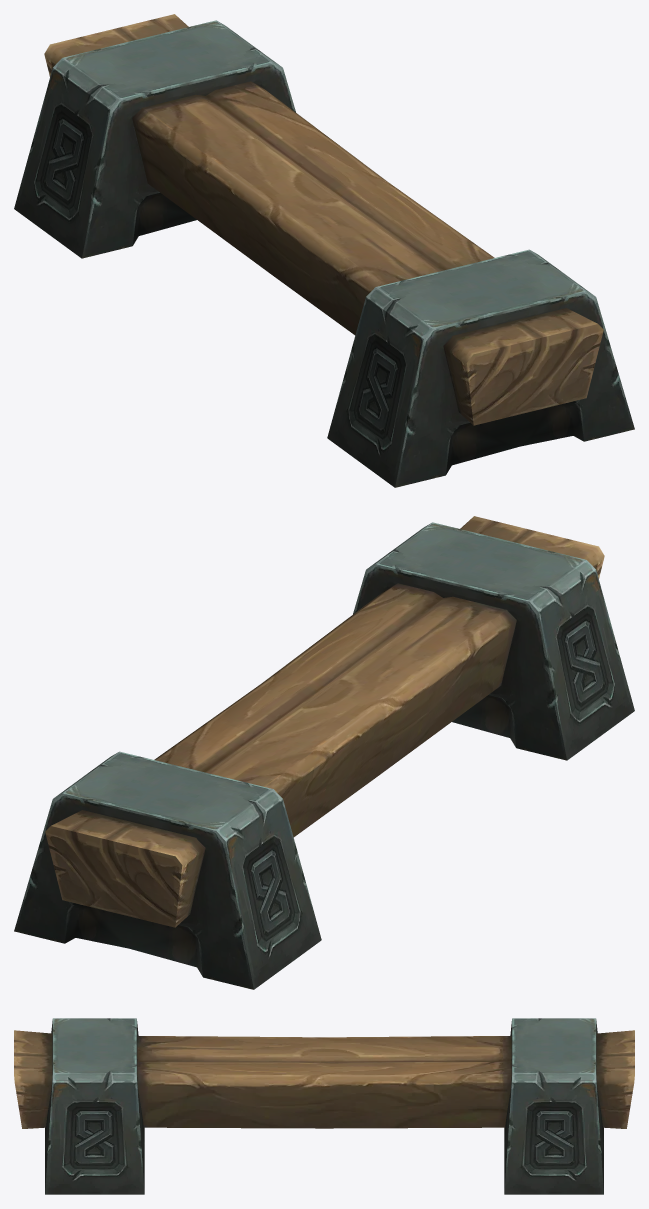
The picture shows the model from 3 angles, top to bottom: view 1: azimuth 30°, elevation 25°; view 2: azimuth 150°, elevation 25°; view 3: azimuth 270°, elevation 25°; orthographic projection. The views are drawn at different scales.
Bounding box in the file's own units: 0.8787 × 0.5058 × 2.69.
1 material, 1 textured.
